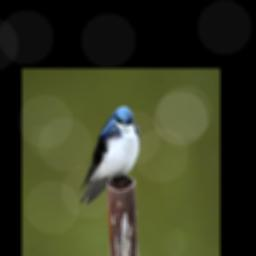Swallow: (78, 105, 141, 205)
